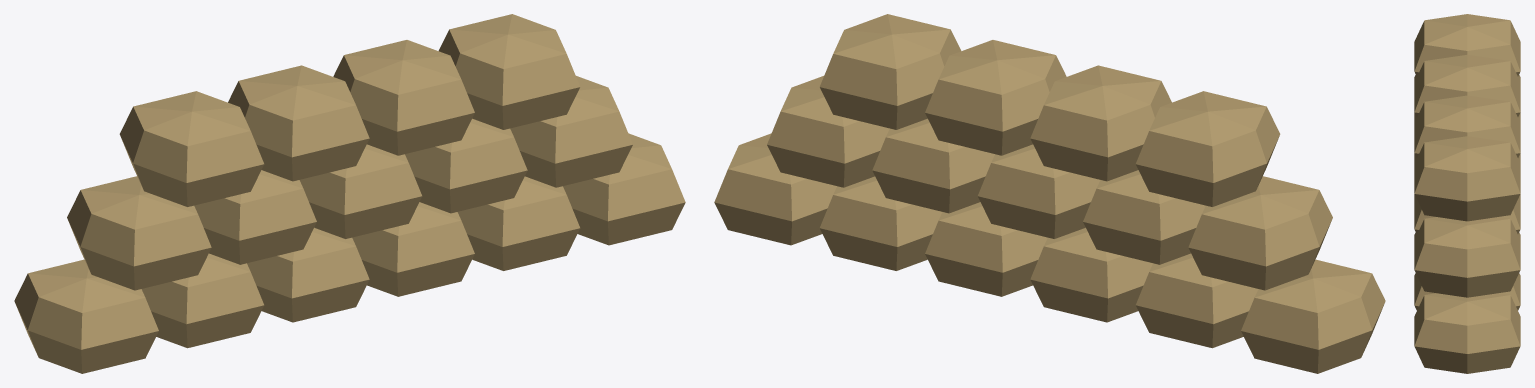
File: r-sandbags.glb
3 views of the same model, side by side, from view 1: azimuth 30°, elevation 25°; view 2: azimuth 150°, elevation 25°; view 3: azimuth 270°, elevation 25° (orthographic). The views are drawn at different scales.
Parts seen in each view (by area): view 1: p; view 2: p; view 3: p.
Boxes of the visible parts, x1,y1,x2,y2 form: p: (14, 14, 685, 373); p: (714, 14, 1385, 373); p: (1414, 14, 1520, 373).
Size of the model in its own units: 3.06 by 0.98 by 0.5504.
